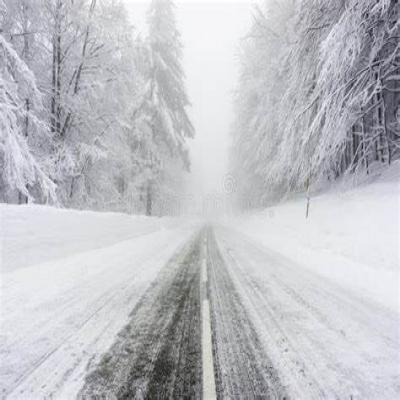iced-road: (0, 229, 202, 400), (208, 225, 400, 400)
